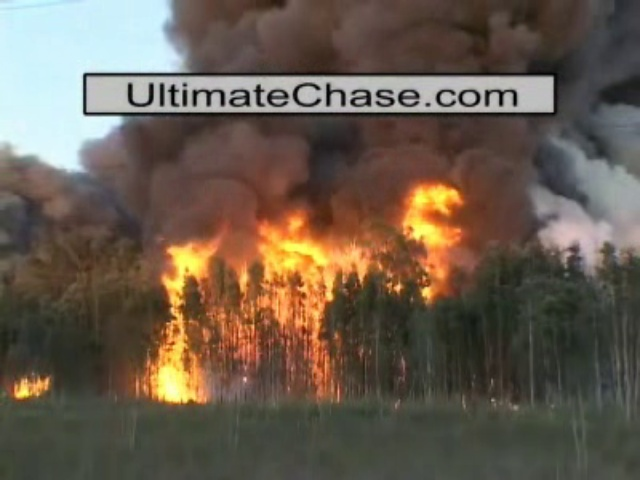fire: (182, 218, 329, 283), (398, 180, 466, 246), (148, 356, 209, 404)
